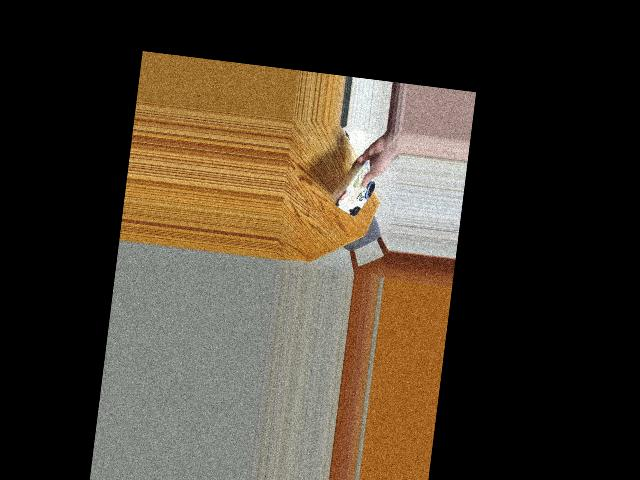cheese: (325, 164, 384, 216)
